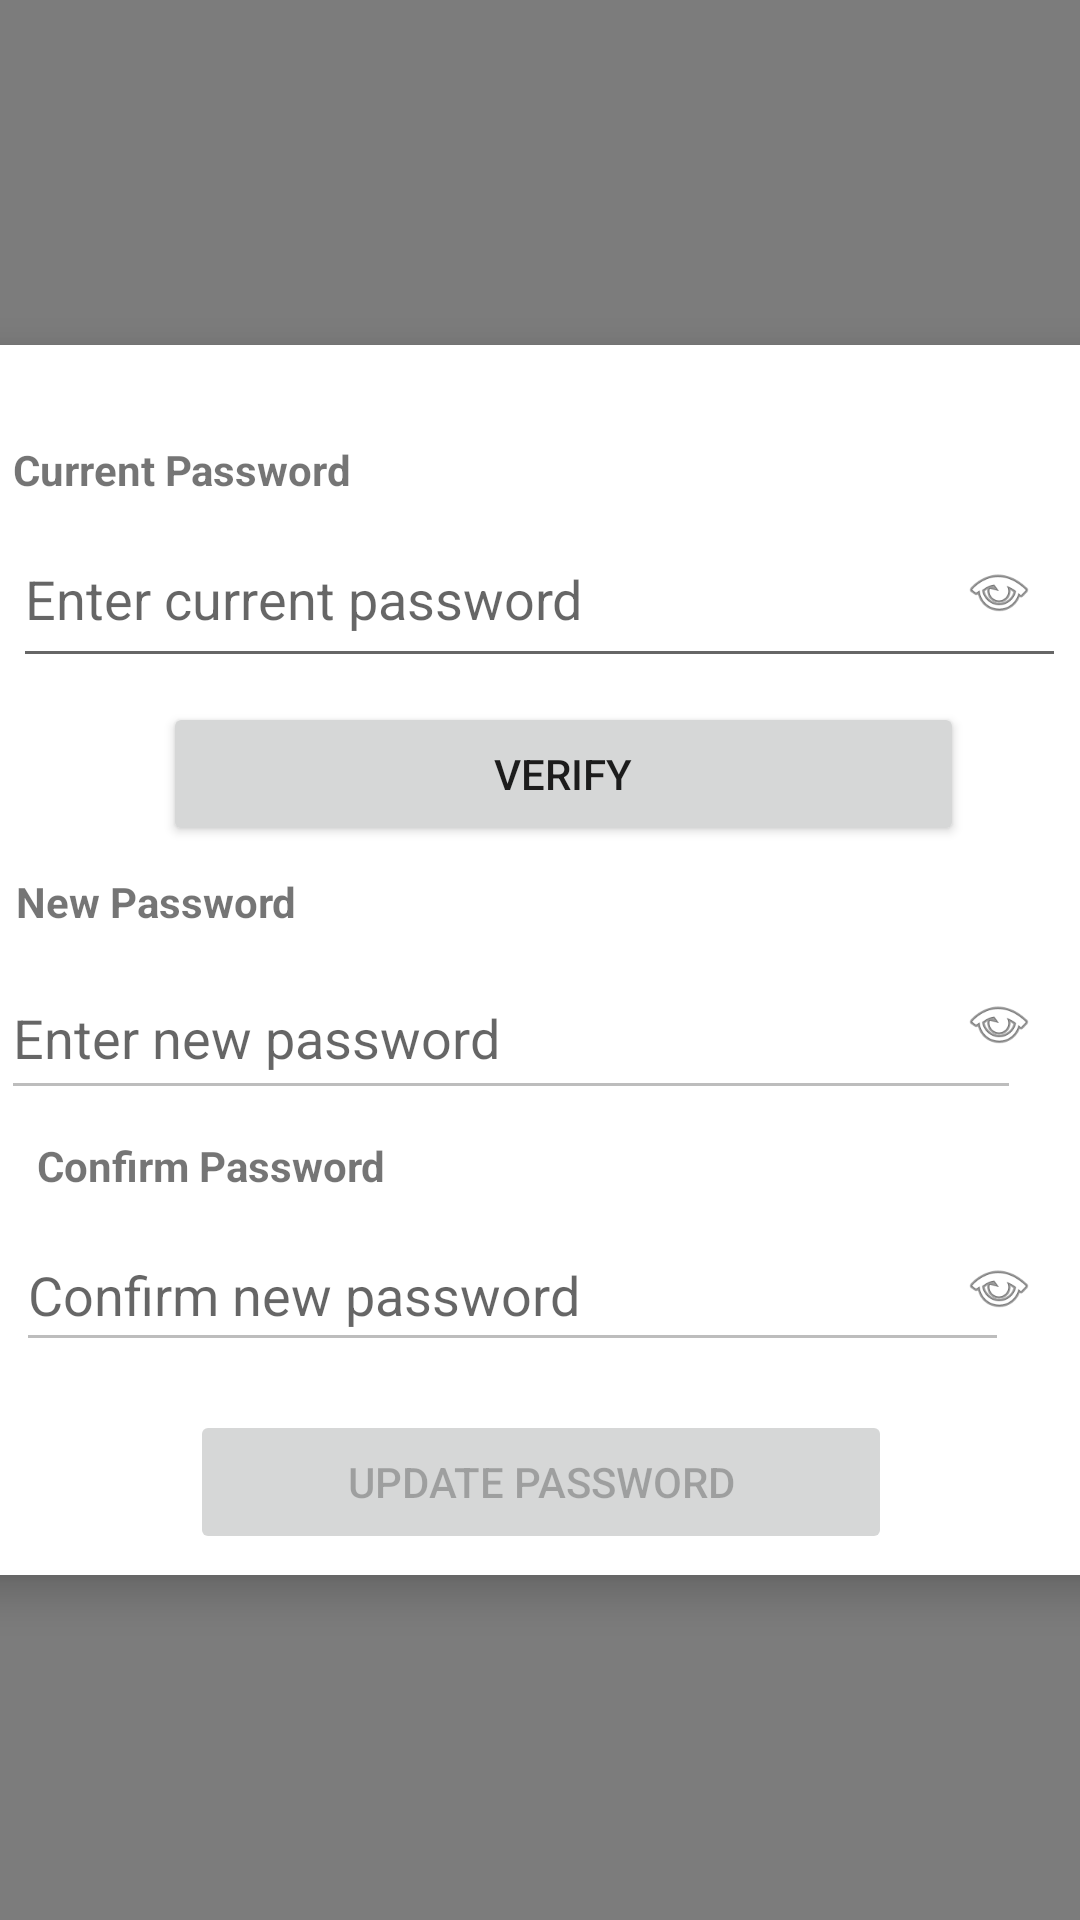

Named icons in this screenshot (1080*1920) and their bounding boxes, [x1=x1, y1=y1, x2=x2, y2=y2]:
Toggle confirm password visibility: [x1=970, y1=1270, x2=1028, y2=1307]
Toggle new password visibility: [x1=970, y1=1006, x2=1028, y2=1043]
view: [x1=970, y1=574, x2=1028, y2=611]
